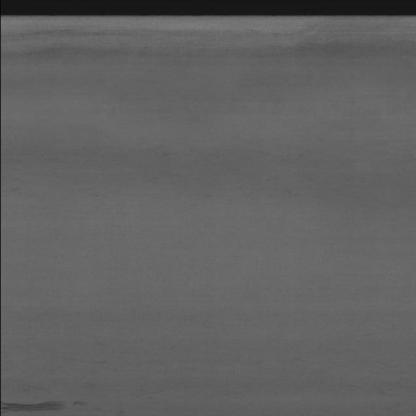water_spot: (0, 383, 104, 416)
